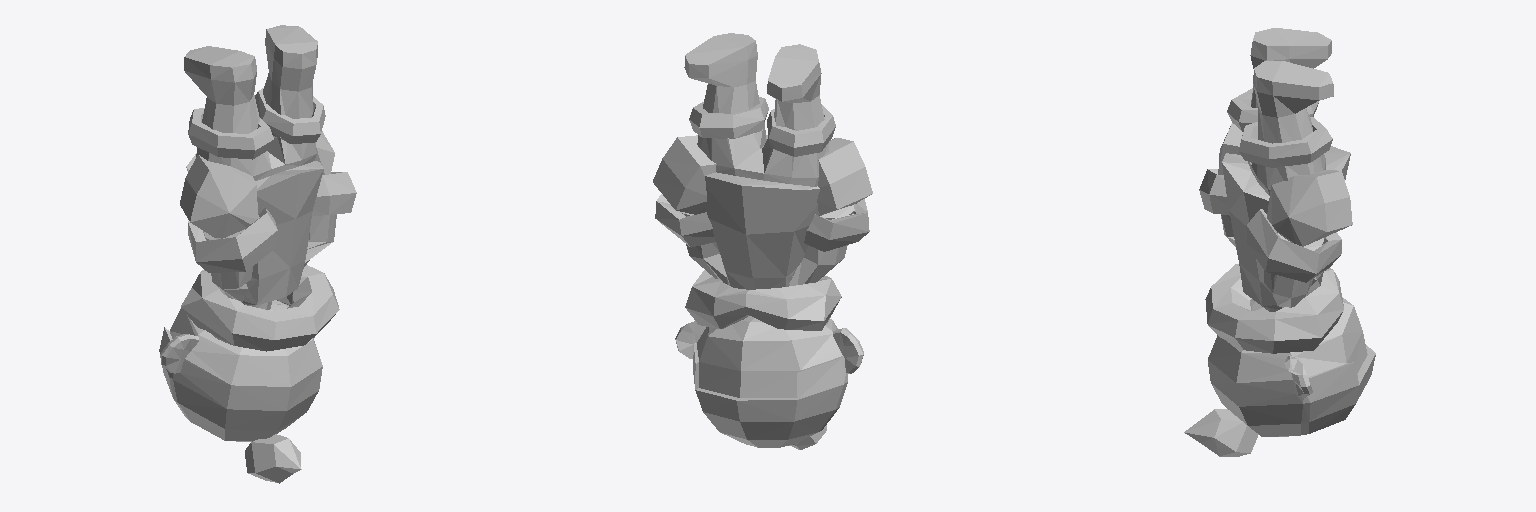
File: eikastanding_000375.obj
The picture shows the model from 3 angles: view 1: azimuth 30°, elevation 25°; view 2: azimuth 150°, elevation 25°; view 3: azimuth 270°, elevation 25°; orthographic projection.
Visible parts, largest first — view 1: Cylinder; view 2: Cylinder; view 3: Cylinder.
Part boxes in pixels (bbox=[...]): Cylinder: bbox=[159, 25, 356, 483]; Cylinder: bbox=[653, 33, 872, 449]; Cylinder: bbox=[1184, 28, 1375, 456].
Bounding box in the file's own units: 26.87 × 55.79 × 23.56.